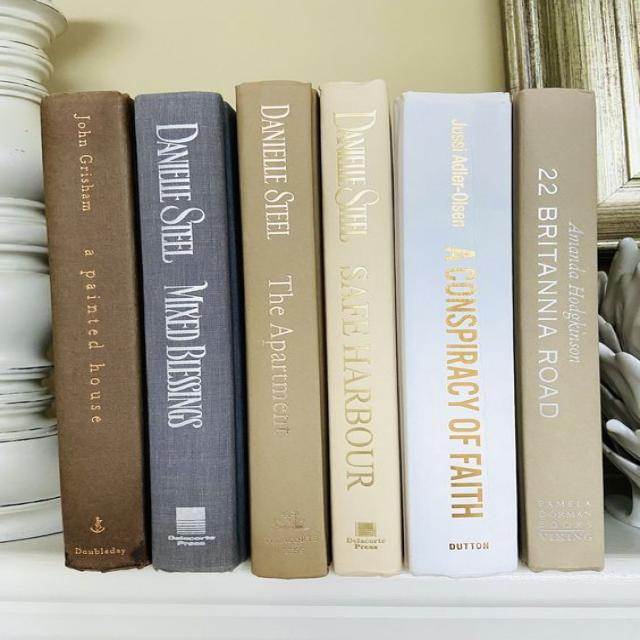book: (393, 92, 517, 574), (135, 93, 247, 571), (42, 92, 149, 571), (236, 81, 328, 577), (512, 89, 603, 570), (319, 80, 402, 574)
